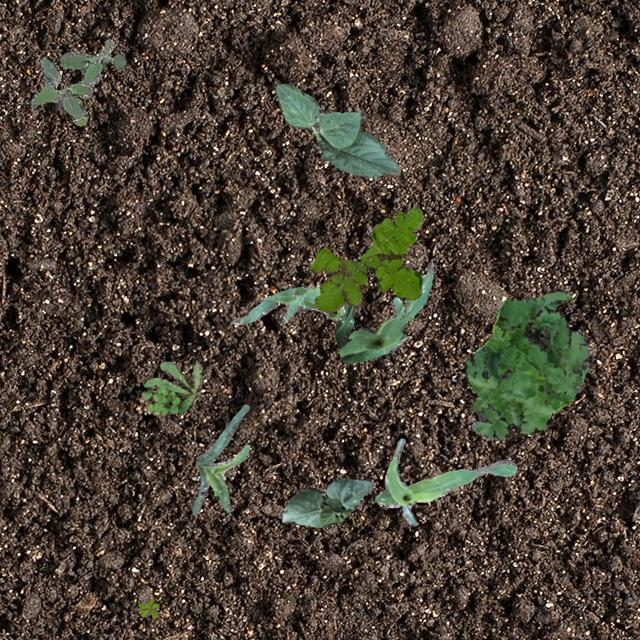crop: (374, 438, 516, 526), (274, 82, 398, 178), (333, 258, 432, 364), (192, 404, 248, 514), (279, 478, 372, 526), (232, 286, 344, 324)
weed: (464, 292, 588, 439), (309, 204, 422, 310), (28, 38, 124, 124), (140, 360, 202, 414), (138, 598, 158, 616)
